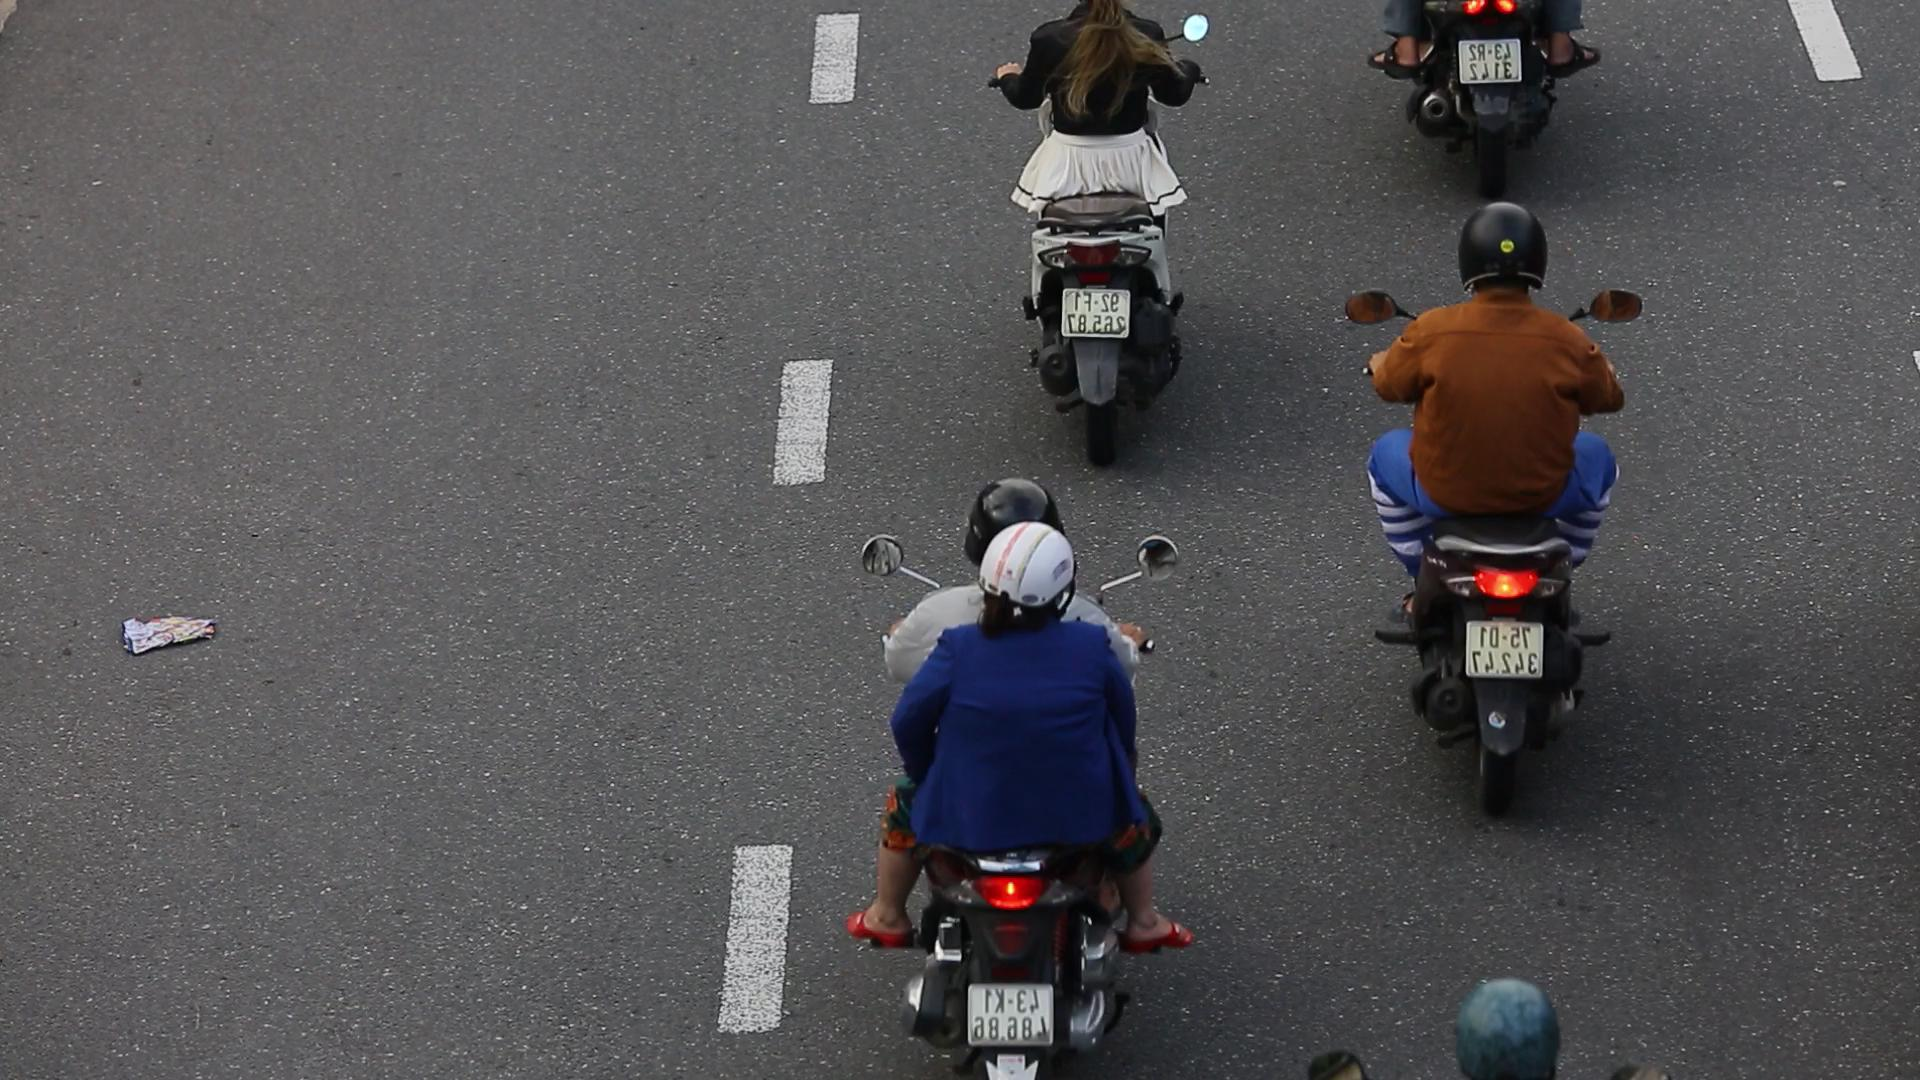motobike: (1312, 194, 1656, 836), (835, 468, 1183, 1080)
